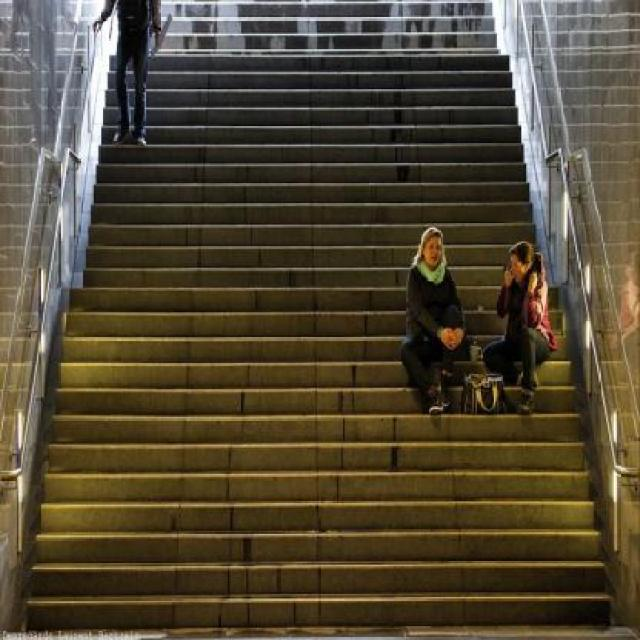stair: (29, 0, 609, 629)
